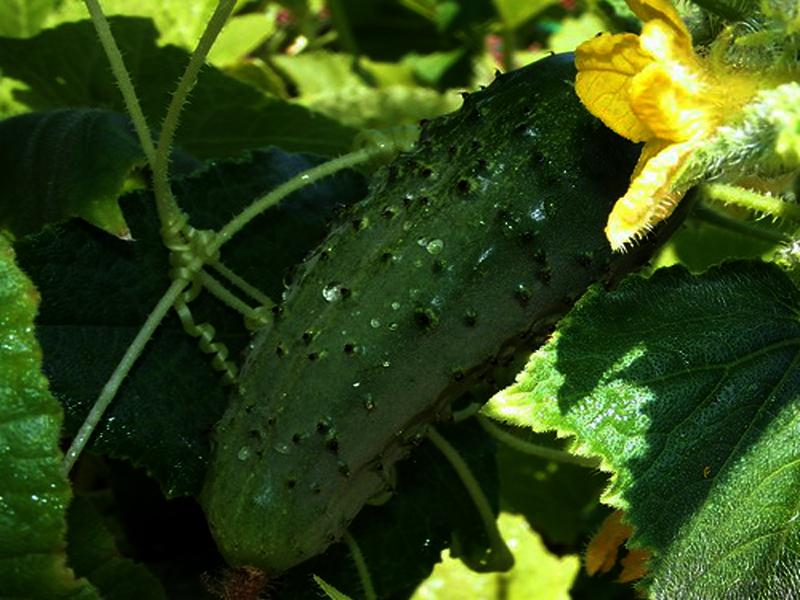Cucumber: (199, 51, 698, 598)
